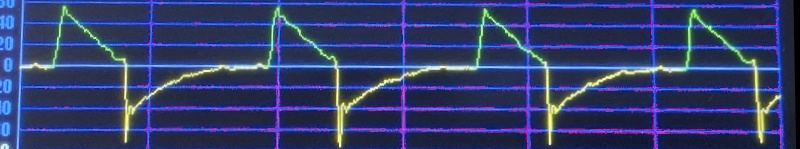normal_flow: (15, 0, 784, 149)
